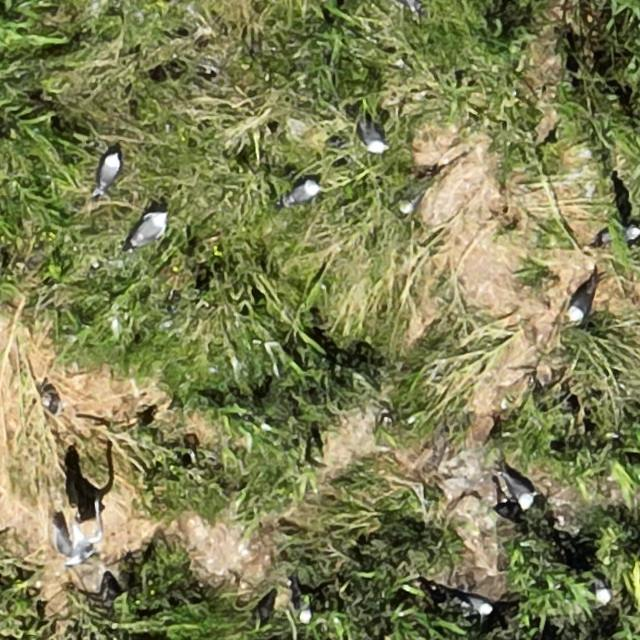F: (50, 507, 100, 562)
umineko: (401, 173, 435, 210), (130, 214, 163, 244), (506, 476, 534, 506), (98, 152, 118, 188), (288, 182, 318, 205), (363, 124, 386, 152), (570, 288, 590, 320), (462, 594, 492, 614), (298, 596, 313, 624), (591, 583, 611, 604), (627, 226, 638, 242)
